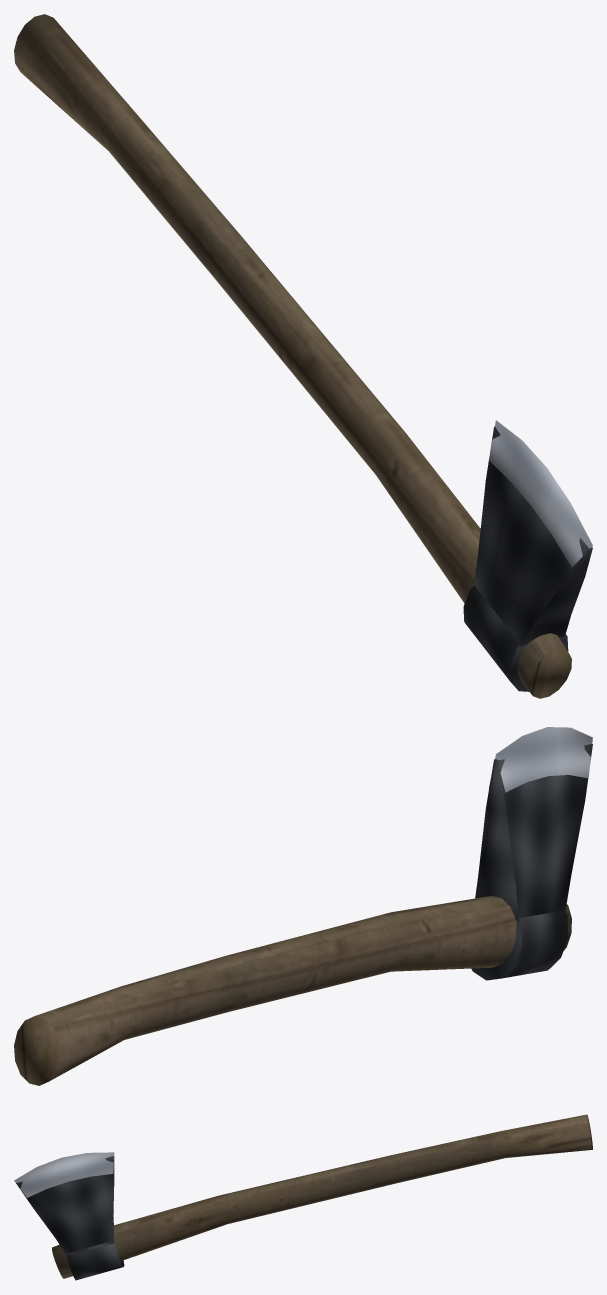
Rendered from hacha.glb.
3 views of the same model, one above another, from view 1: azimuth 30°, elevation 25°; view 2: azimuth 150°, elevation 25°; view 3: azimuth 270°, elevation 25° (orthographic). The views are drawn at different scales.
Visible parts, largest first — view 1: hacha; view 2: hacha; view 3: hacha.
Part boxes in pixels (bbox=[...]): hacha: bbox=[14, 14, 592, 698]; hacha: bbox=[14, 727, 592, 1085]; hacha: bbox=[14, 1114, 592, 1280].
Bounding box in the file's own units: 0.056 × 0.2884 × 0.9244.
3 materials, 3 textured.
